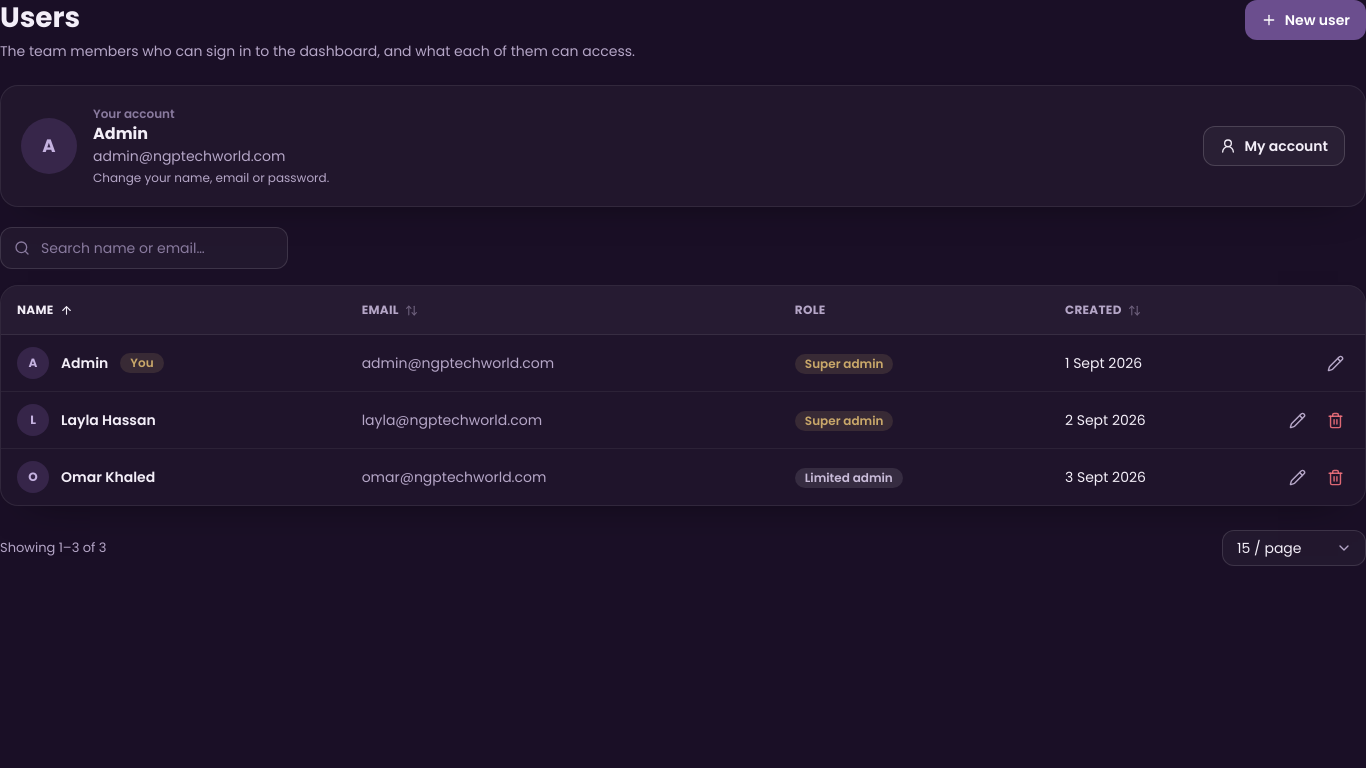
Test: UserList › delete › asks first, then deletes and refreshes the list
Expected: the text "Layla Hassan" is shown, [61,410,156,430]
Click the button named "Delete" in the row of "Layla Hassan": (1335,420) [1317,402,1353,438]
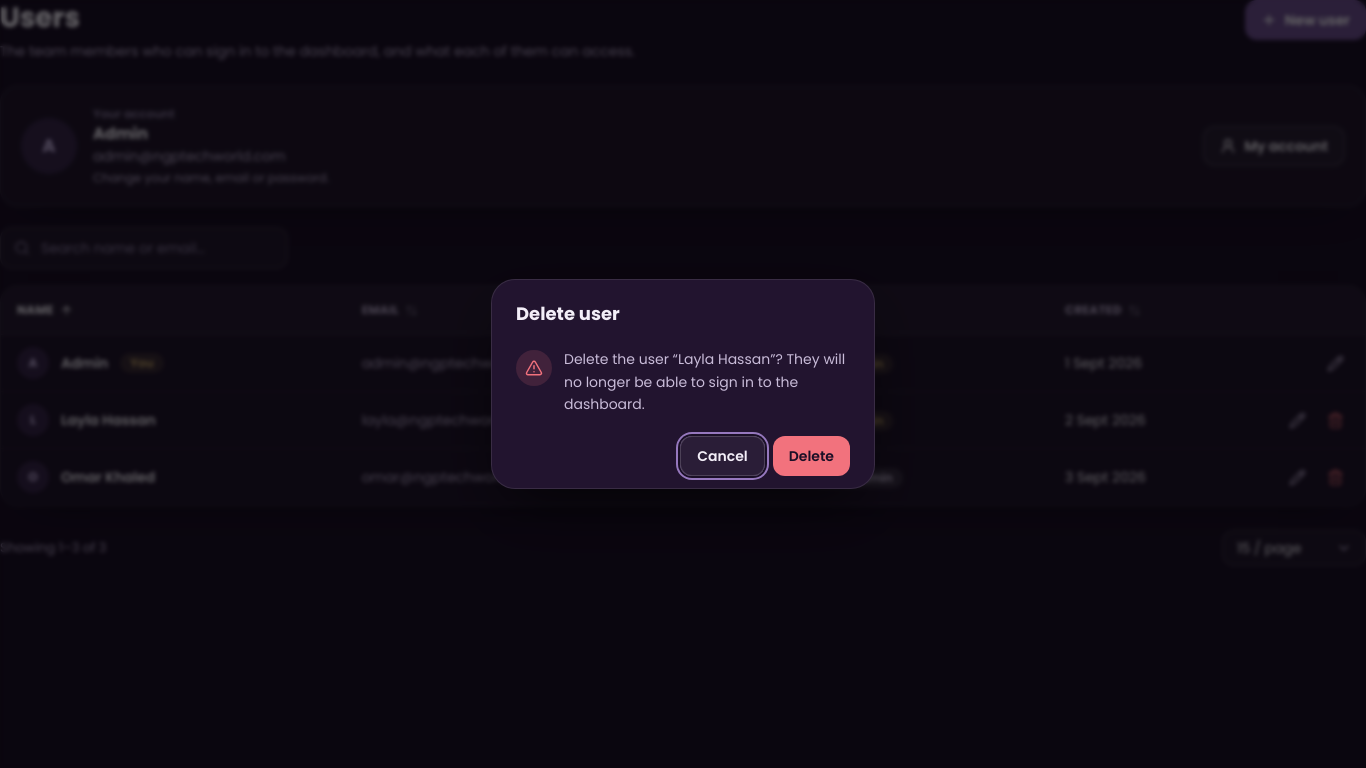
Result: the dialog "Delete user" shows "Delete the user “Layla Hassan”? They will no longer be able to sign in to the dashboard." at [564,349,845,414]
Click the button "Delete": (811,456) [773,436,850,476]
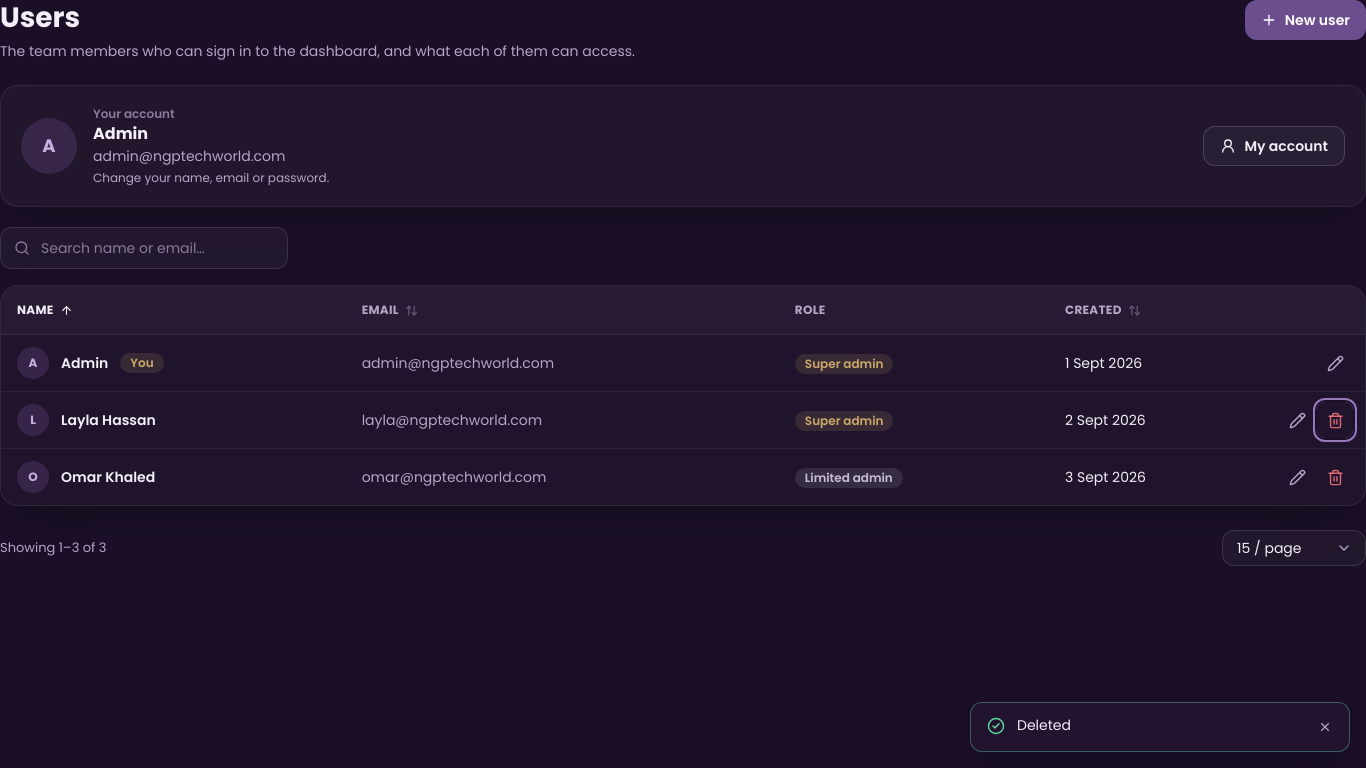
Result: the text "Deleted" is shown at [1017,715,1071,735]
